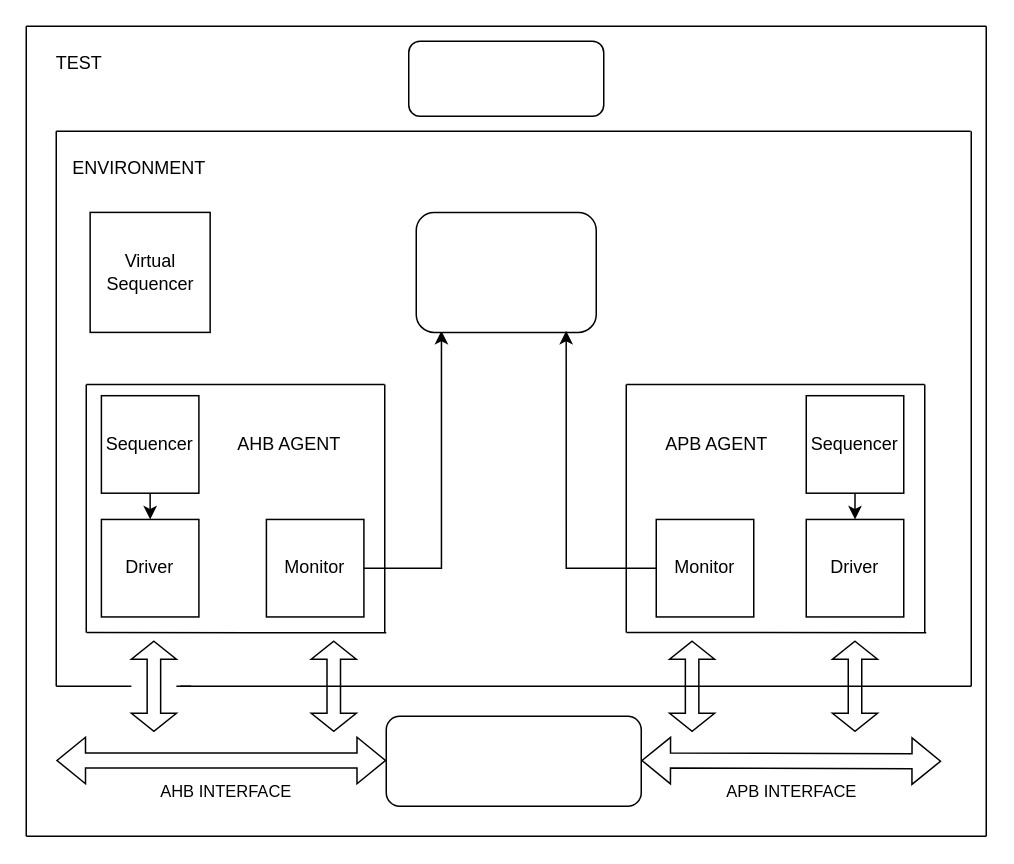
Some shapes in this 1014 by 864 pixel diagram are drawn without their labels. Each missing label, with the box of its shape:
AHB2APB: (385, 715, 641, 806)
SCORE BOARD: (415, 211, 596, 332)
VIRTUAL SEQUENCE: (407, 40, 604, 116)
